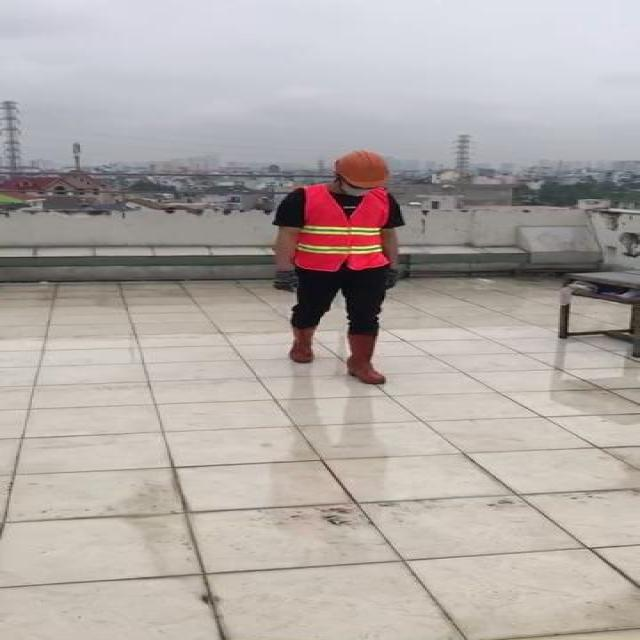boots: (345, 332, 389, 384), (286, 321, 320, 364)
hand_glove: (272, 267, 299, 292), (386, 268, 404, 293)
head_helmet: (332, 145, 390, 189), (338, 182, 378, 198)
person: (264, 142, 410, 388)
vest: (299, 183, 391, 271)
